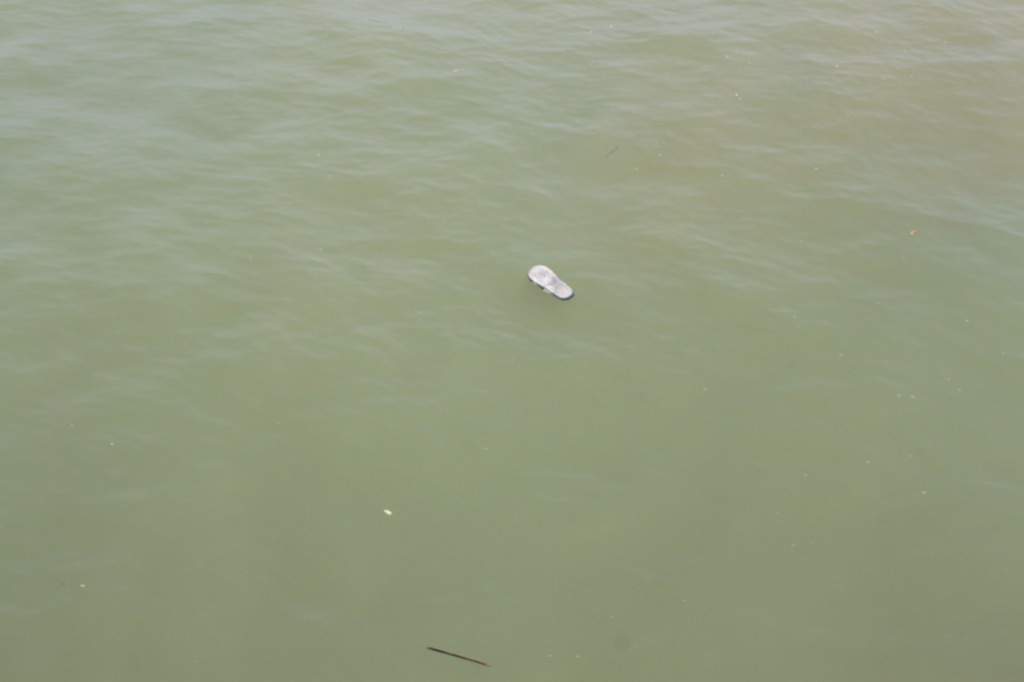organic: (419, 631, 502, 680), (594, 140, 626, 164)
plastic: (523, 258, 581, 306), (381, 504, 396, 521), (78, 579, 88, 592), (108, 438, 117, 449)
